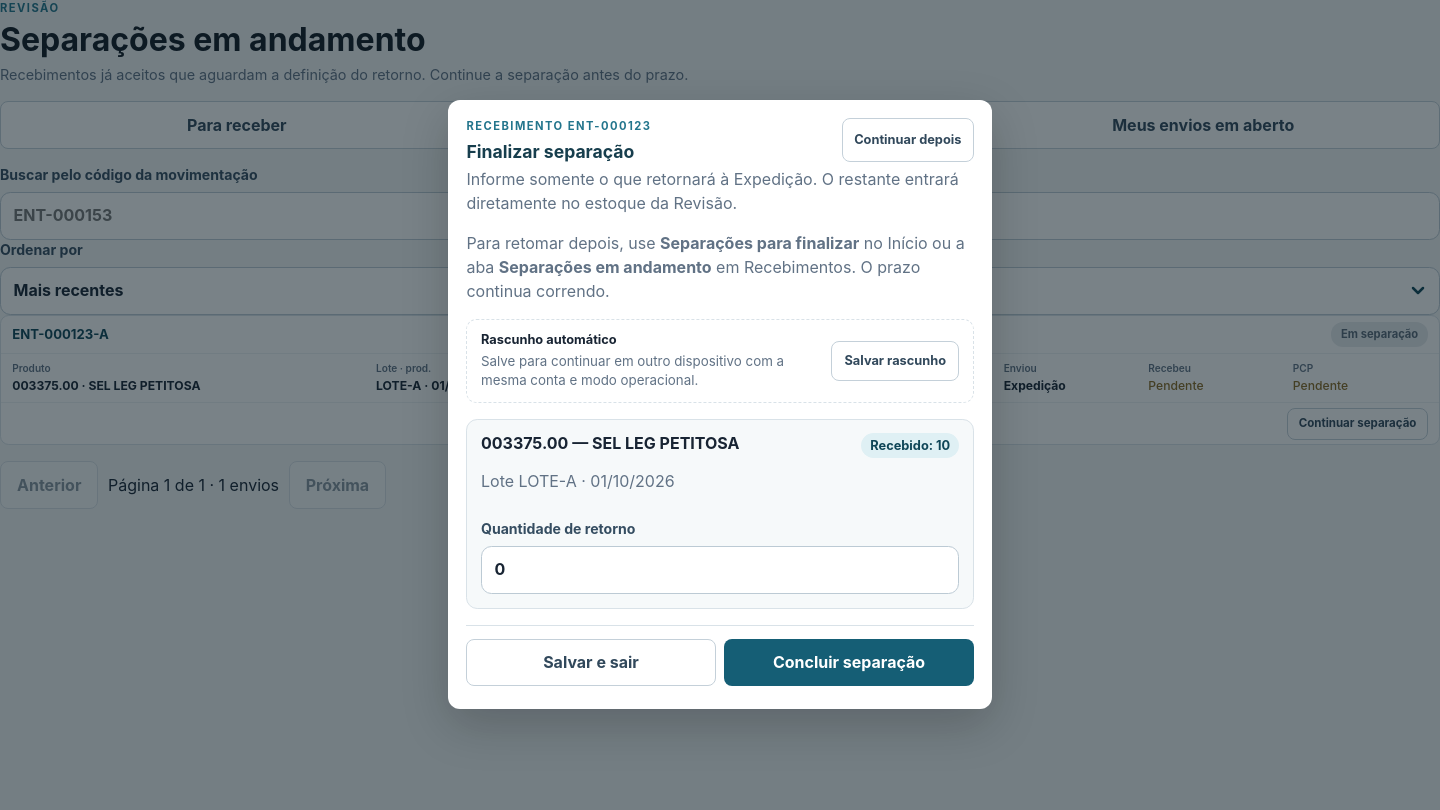
Test: Recebimento e retomada da separação › abre diretamente pelo atalho da Home e conclui usando a operação existente
This screenshot has width=1440, height=810.
Expected: the heading with id "separation-title" reads "Finalizar separação", [466, 141, 634, 162]
Click the button "Concluir separação".
click(849, 663)  # box [724, 639, 974, 686]
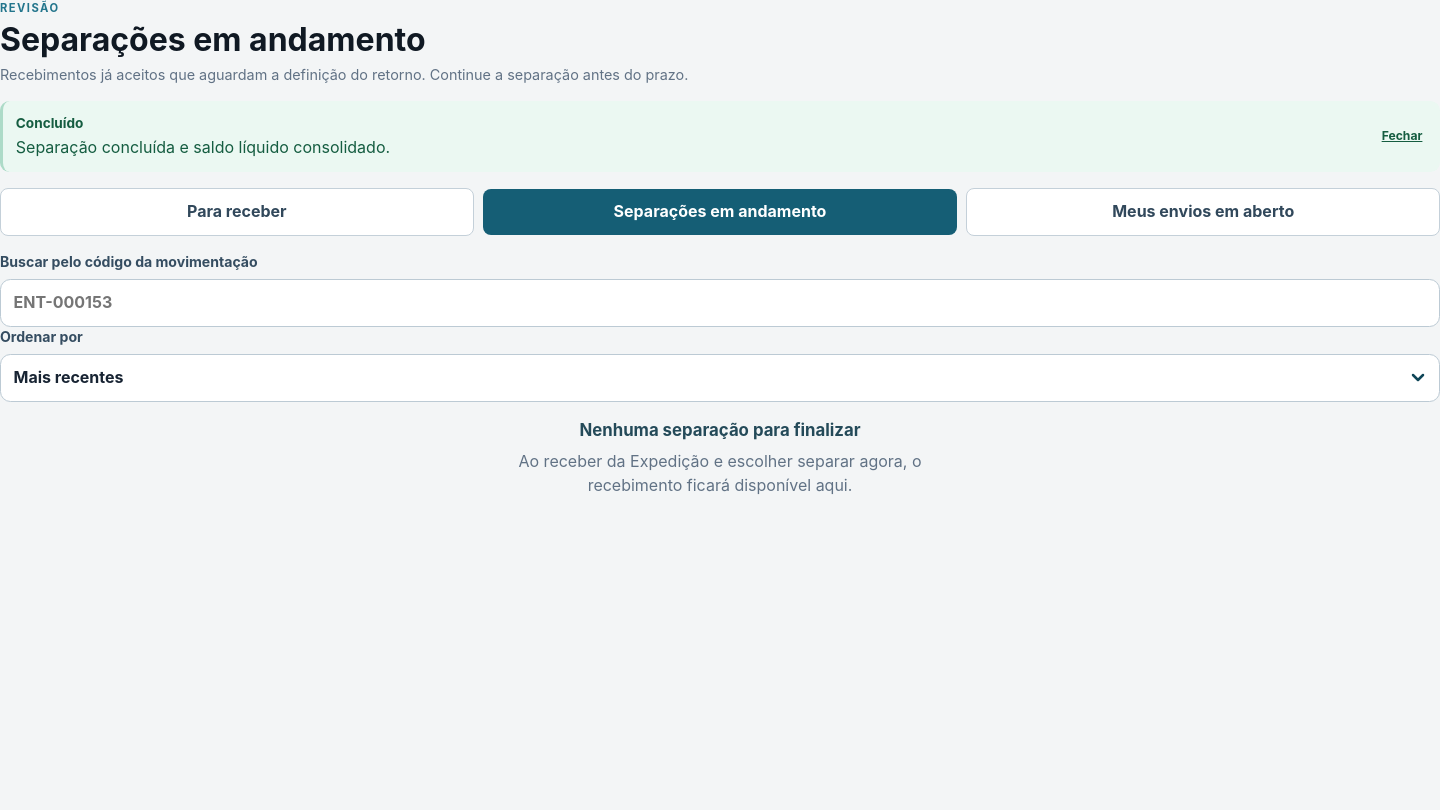
Expected: the dialog is gone
Expected: the text "Separação concluída e saldo líquido consolidado." is shown, [16, 137, 390, 157]
